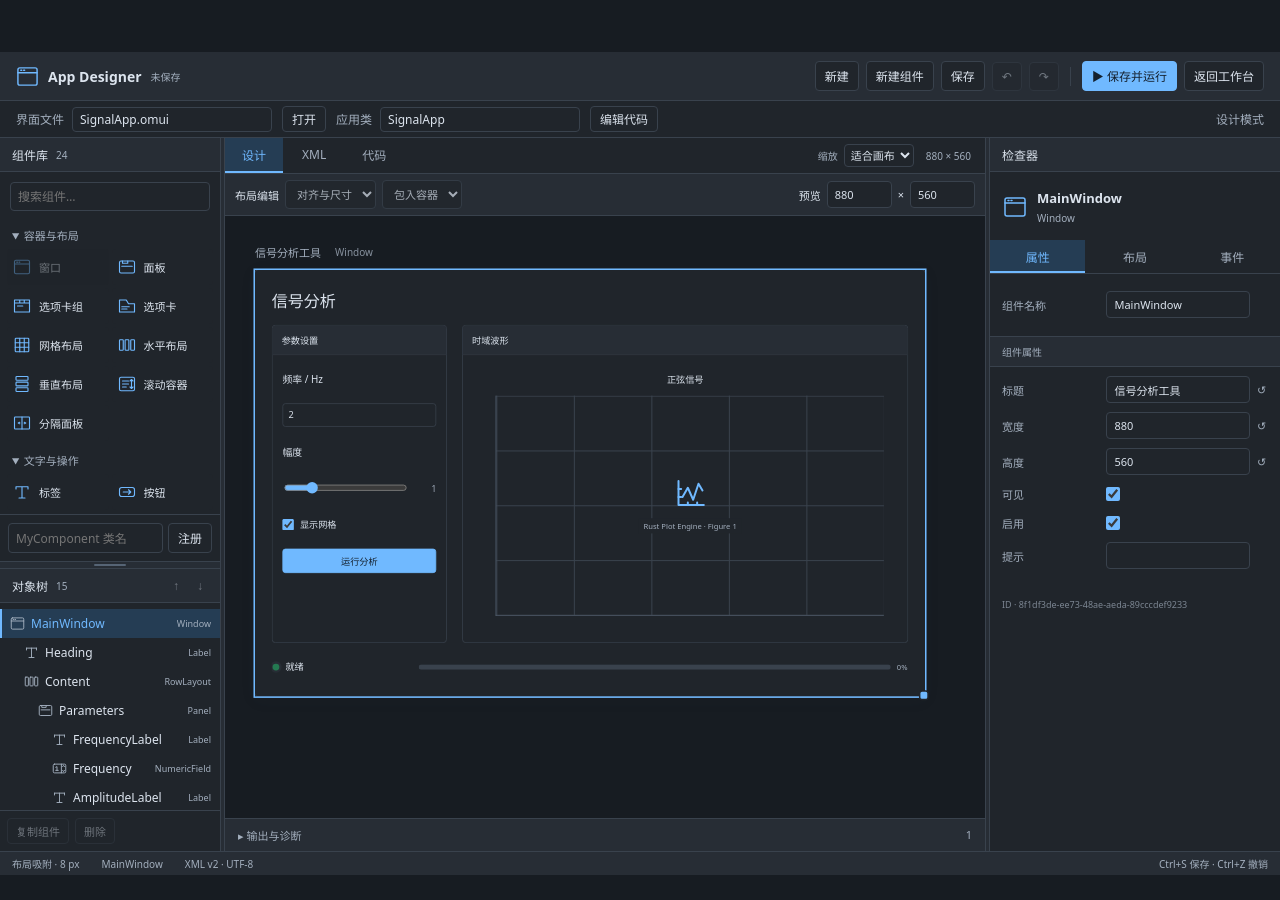
Test: App Designer workbench › preserves the last valid design when XML cannot be applied
The image size is (1280, 900).
Click the button "XML" at (314, 156), box [285,138,343,173]
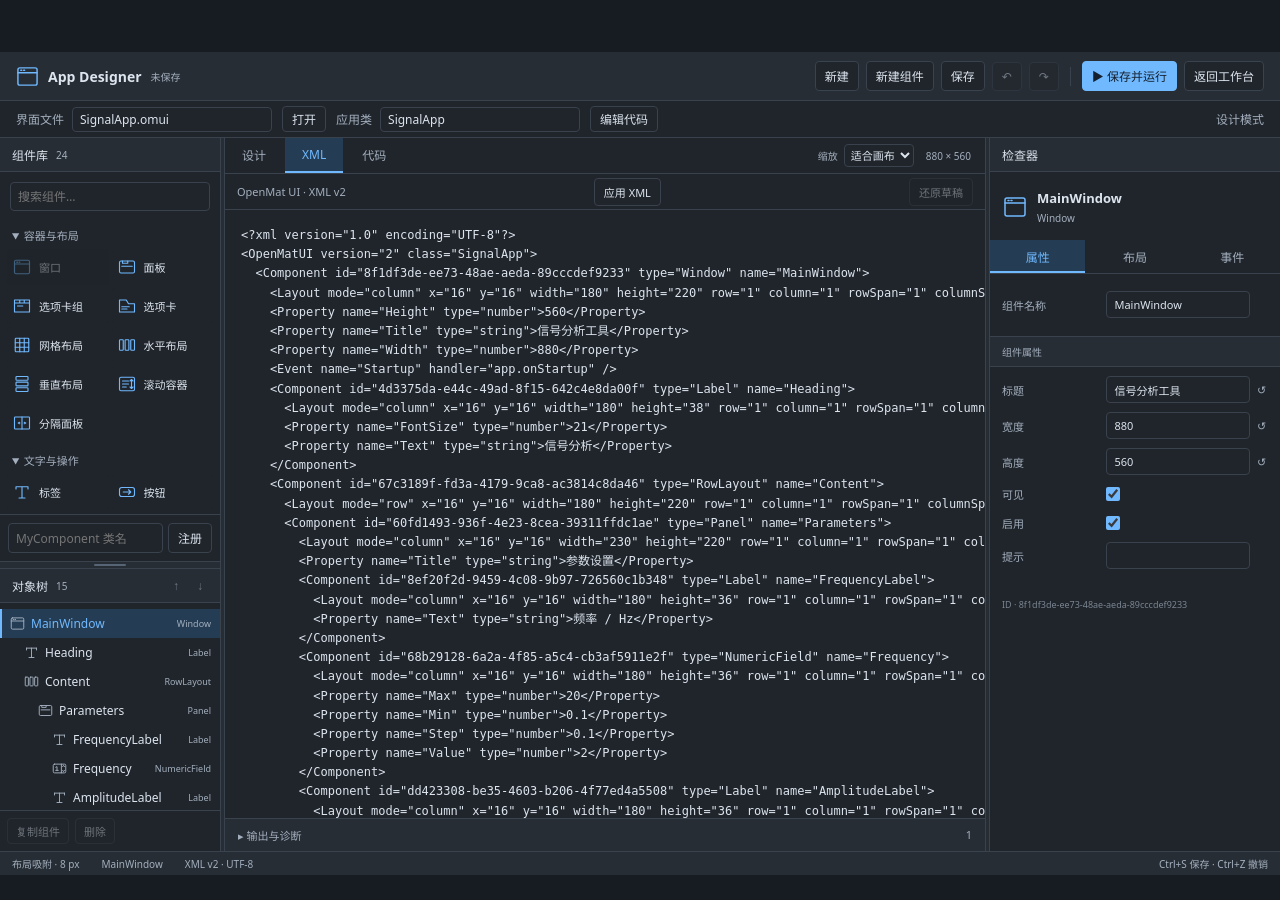
Replace the text in the text box named "界面 XML" with "<bad>" at (605, 514), box [225,210,985,818]
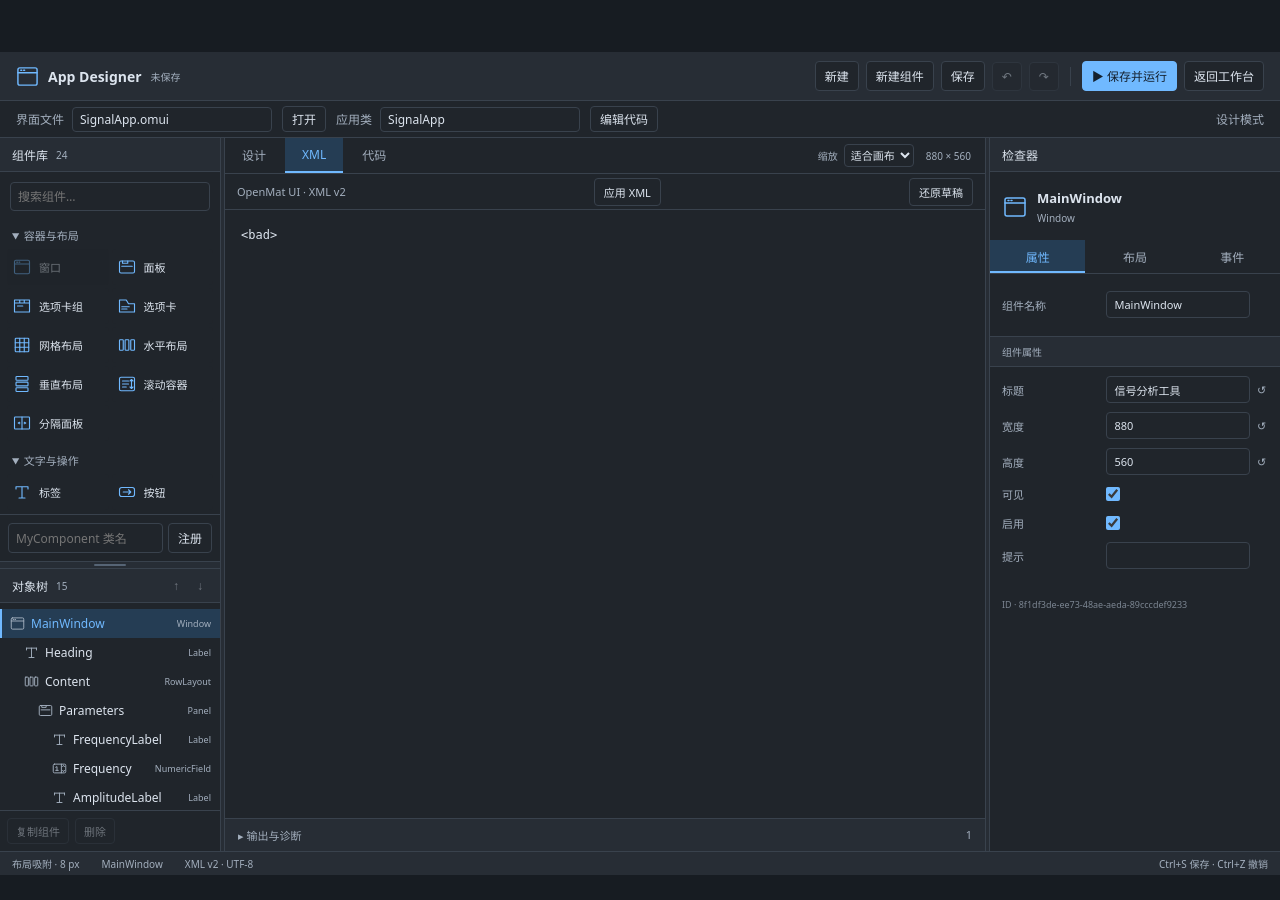
Click the button "应用 XML" at (627, 192), box [594,178,661,206]
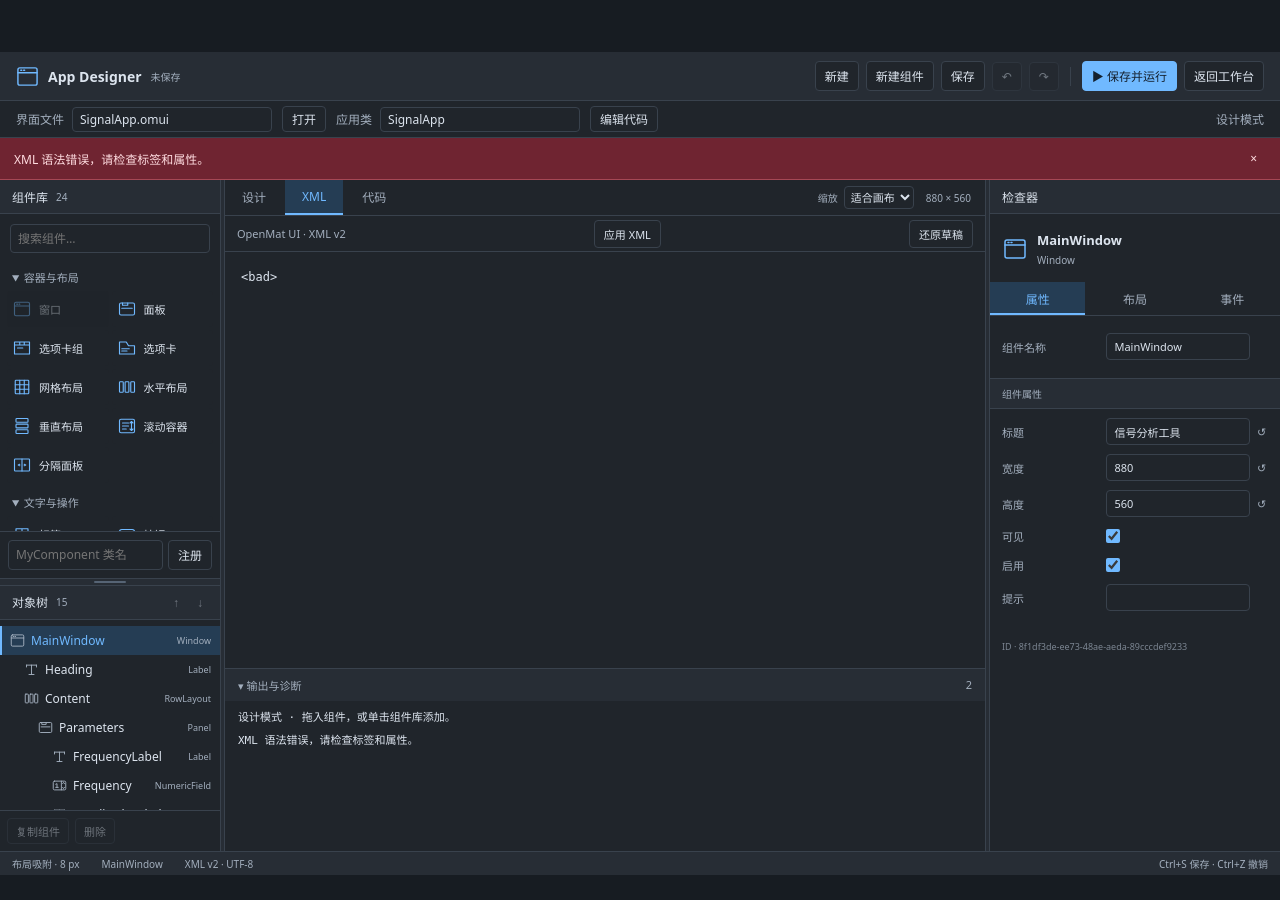
Now the message shows "XML 语法错误", box [14,150,209,168]
Click the button "设计" at (254, 198), box [225,180,283,215]
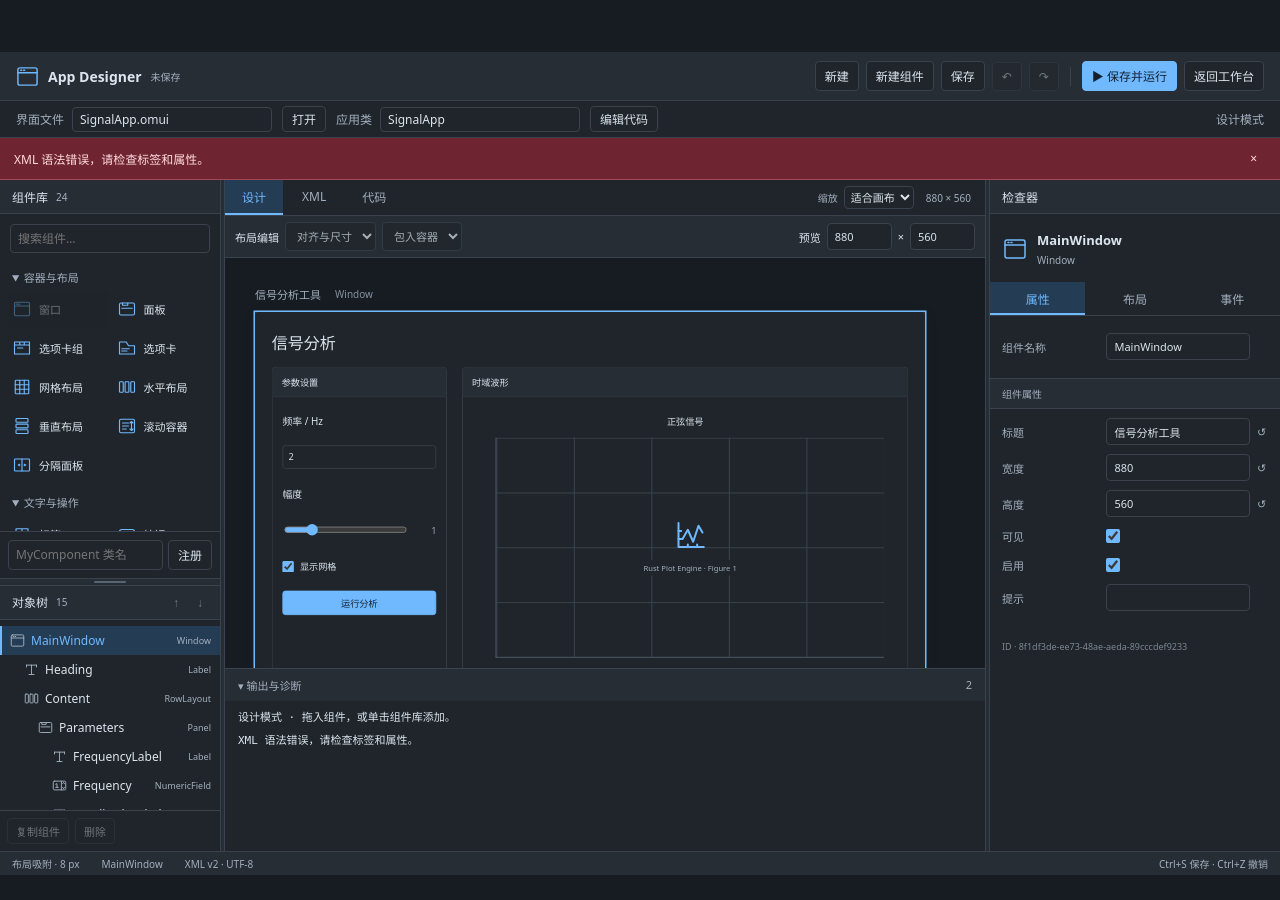
Now the element with class "designer-artboard" shows "信号分析", box [272,333,336,354]
